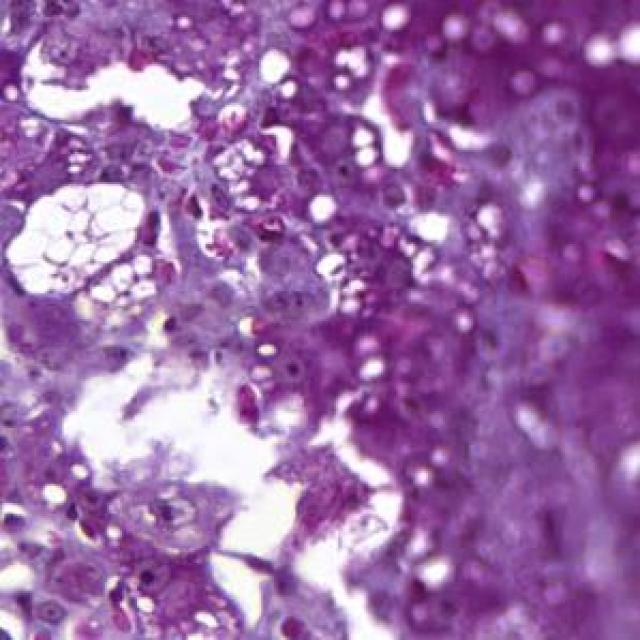ballooning: (0, 178, 154, 302)
